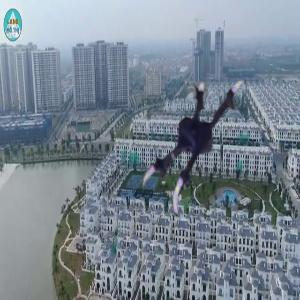drone: (132, 75, 281, 224)
